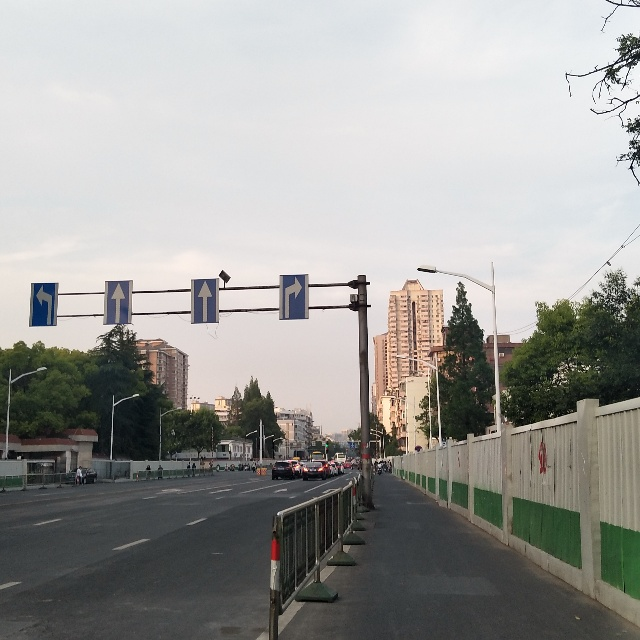left: (26, 280, 60, 328)
right: (279, 272, 311, 322)
straight: (109, 280, 129, 326), (193, 280, 215, 321)
